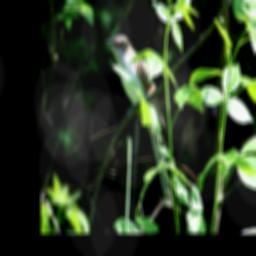Cuckoo: (102, 34, 173, 205)
